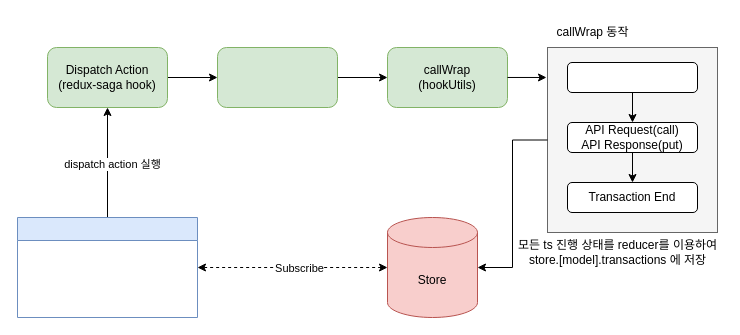
The diagram is 740 pixels wide and 335 high, and some of its shapes have lost their labels. The centre of each missing label's shape, as x and y in pixels:
"Effect (Model)" belongs at pixel 277 77.
"Transaction Start" belongs at pixel 632 77.
"UI" belongs at pixel 107 267.
